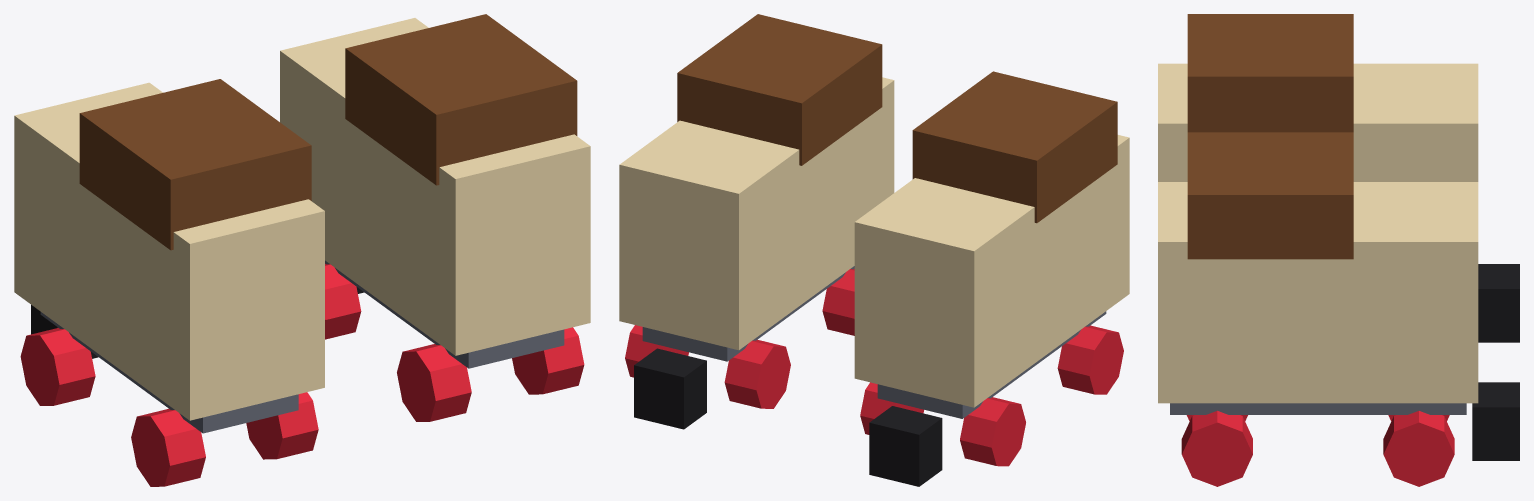
Rendered from SkatesTan.obj.
3 views of the same model, side by side, from view 1: azimuth 30°, elevation 25°; view 2: azimuth 150°, elevation 25°; view 3: azimuth 270°, elevation 25° (orthographic). The views are drawn at different scales.
Visible parts, largest first — view 1: SkatesTan; view 2: SkatesTan; view 3: SkatesTan.
Boxes of the visible parts, <box> form: SkatesTan: <box>14,14,590,486</box>; SkatesTan: <box>619,14,1129,486</box>; SkatesTan: <box>1158,14,1519,486</box>.
Size of the model in its own units: 0.368 by 0.27 by 0.305.
5 materials, 5 textured.
